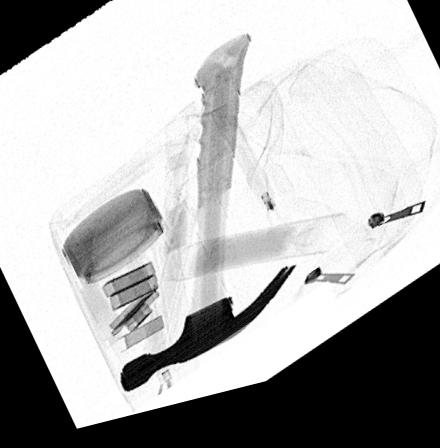Hammer: (117, 44, 299, 401)
